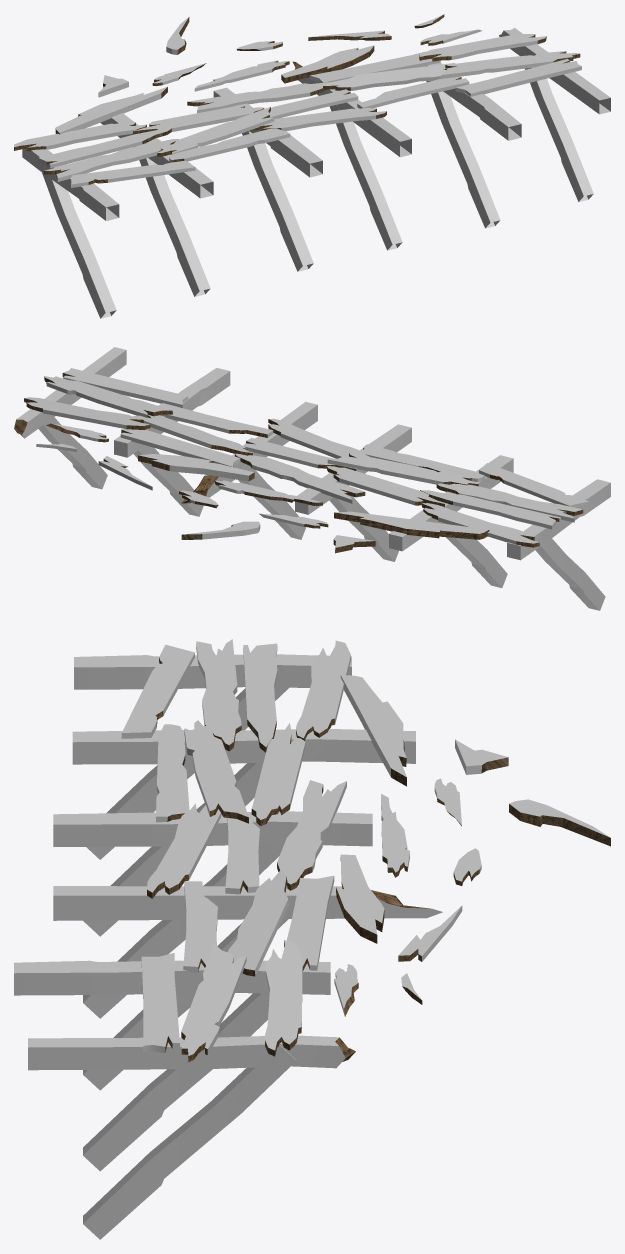
File: lower_city_wood_platform_02.fbx
3 views of the same model, one above another, from view 1: azimuth 30°, elevation 25°; view 2: azimuth 150°, elevation 25°; view 3: azimuth 270°, elevation 25° (orthographic). The views are drawn at different scales.
Visible parts, largest first — view 1: platform, levitating_wood_1, levitating_wood_8, levitating_wood_2, levitating_wood_10, levitating_wood_11, levitating_wood_6, levitating_wood_9; view 2: platform, levitating_wood_8, levitating_wood_1, levitating_wood_2, levitating_wood_10, levitating_wood_6, levitating_wood_11, levitating_wood_3, levitating_wood_9, levitating_wood_5, levitating_wood_7; view 3: platform, levitating_wood_1, levitating_wood_8, levitating_wood_2, levitating_wood_6, levitating_wood_10, levitating_wood_11, levitating_wood_5, levitating_wood_9.
Boxes of the visible parts, x1,y1,x2,y2 form: platform: [14, 28, 610, 318]; levitating_wood_1: [187, 82, 329, 113]; levitating_wood_8: [55, 86, 167, 134]; levitating_wood_2: [281, 45, 374, 83]; levitating_wood_10: [194, 60, 289, 91]; levitating_wood_11: [308, 30, 391, 40]; levitating_wood_6: [166, 17, 189, 54]; levitating_wood_9: [420, 29, 482, 45]; platform: [14, 347, 610, 610]; levitating_wood_8: [334, 511, 489, 539]; levitating_wood_1: [235, 453, 365, 503]; levitating_wood_2: [138, 454, 254, 481]; levitating_wood_10: [215, 480, 322, 505]; levitating_wood_6: [181, 521, 260, 539]; levitating_wood_11: [98, 456, 152, 490]; levitating_wood_3: [259, 513, 328, 528]; levitating_wood_9: [46, 423, 108, 442]; levitating_wood_5: [333, 535, 375, 553]; levitating_wood_7: [179, 490, 218, 508]; platform: [14, 639, 442, 1239]; levitating_wood_1: [277, 780, 346, 890]; levitating_wood_8: [340, 675, 406, 786]; levitating_wood_2: [336, 854, 384, 943]; levitating_wood_6: [509, 799, 610, 846]; levitating_wood_10: [381, 794, 409, 877]; levitating_wood_11: [398, 905, 462, 961]; levitating_wood_5: [455, 739, 508, 774]; levitating_wood_9: [334, 964, 358, 1016].
Bounding box in the file's own units: 9.87 × 2.39 × 5.98.
